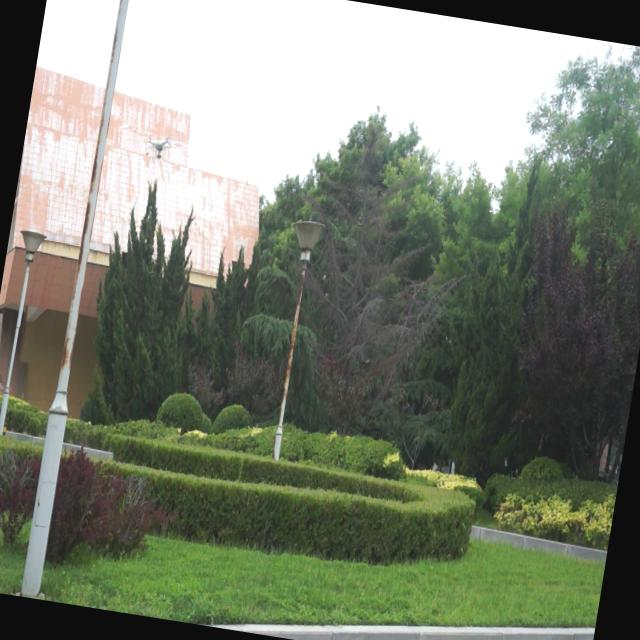drone: (146, 132, 175, 162)
